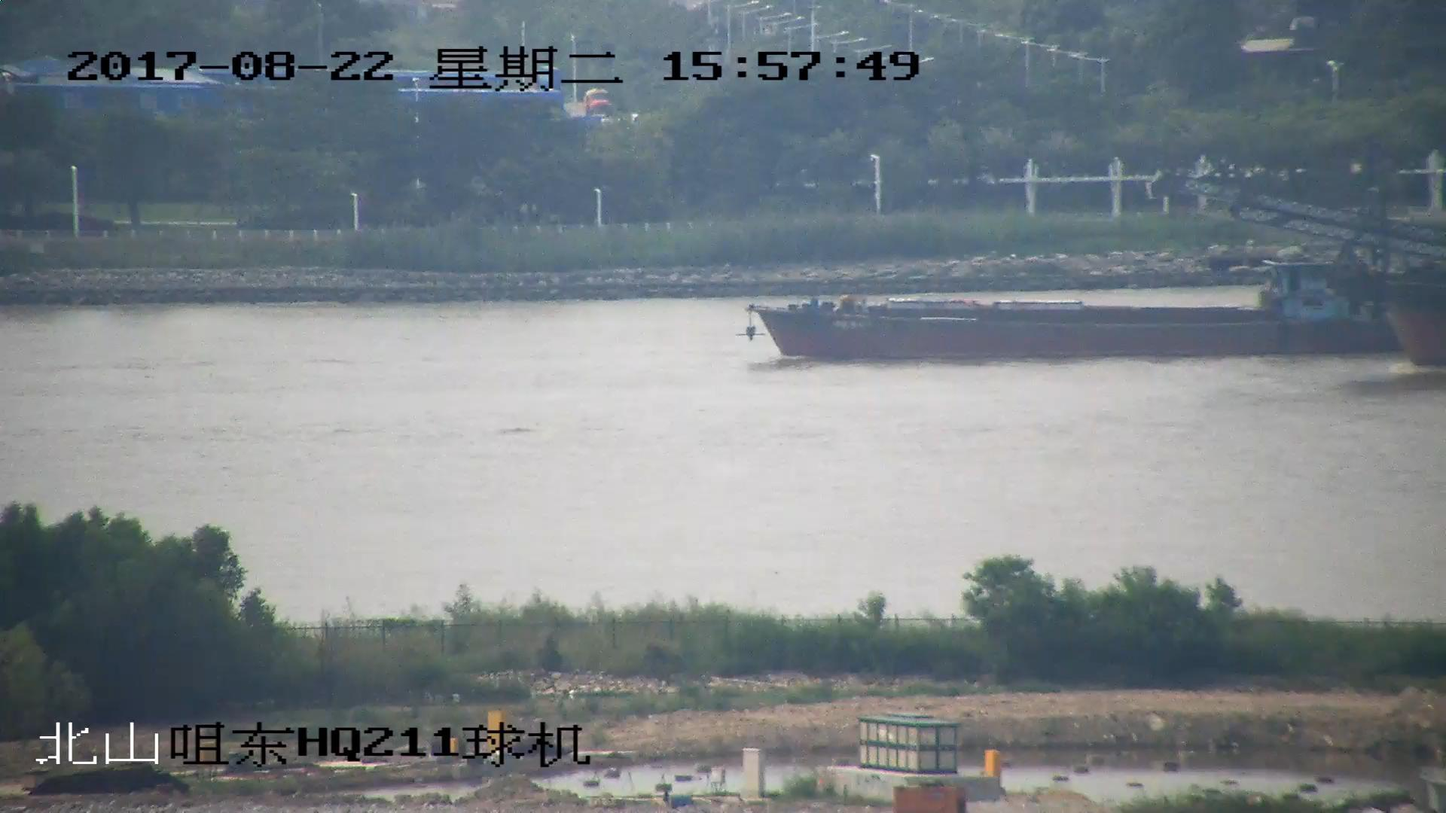bulk cargo carrier: (744, 263, 1422, 361), (1152, 169, 1445, 367)
